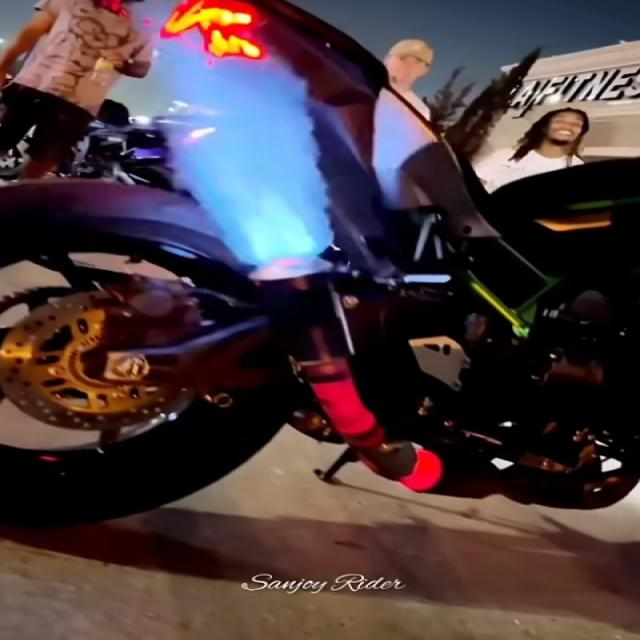fire: (241, 191, 320, 279)
